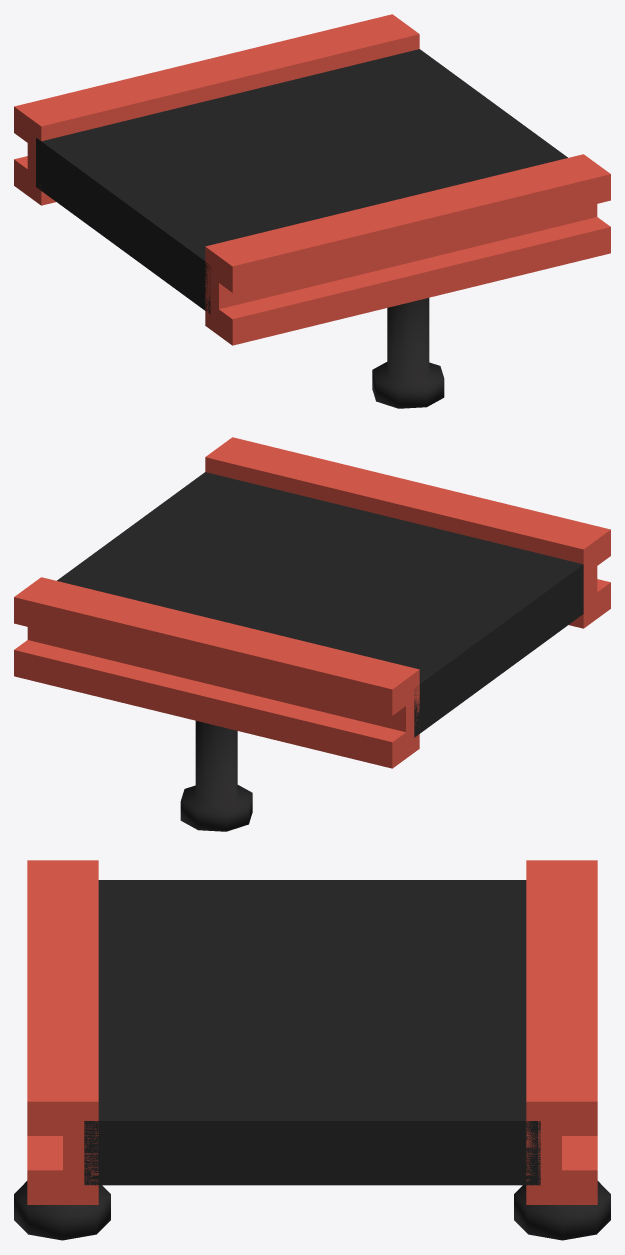
File: Conveyer_ Straight_Final.fbx
3 views of the same model, one above another, from view 1: azimuth 30°, elevation 25°; view 2: azimuth 150°, elevation 25°; view 3: azimuth 270°, elevation 25° (orthographic). The views are drawn at different scales.
Visible parts, largest first — view 1: Conveyer_Straight; view 2: Conveyer_Straight; view 3: Conveyer_Straight.
Boxes of the visible parts, bbox=[...] form: Conveyer_Straight: bbox=[14, 14, 610, 408]; Conveyer_Straight: bbox=[14, 437, 610, 831]; Conveyer_Straight: bbox=[14, 860, 610, 1240].
Bounding box in the file's own units: 4 × 1.85 × 4.19.
